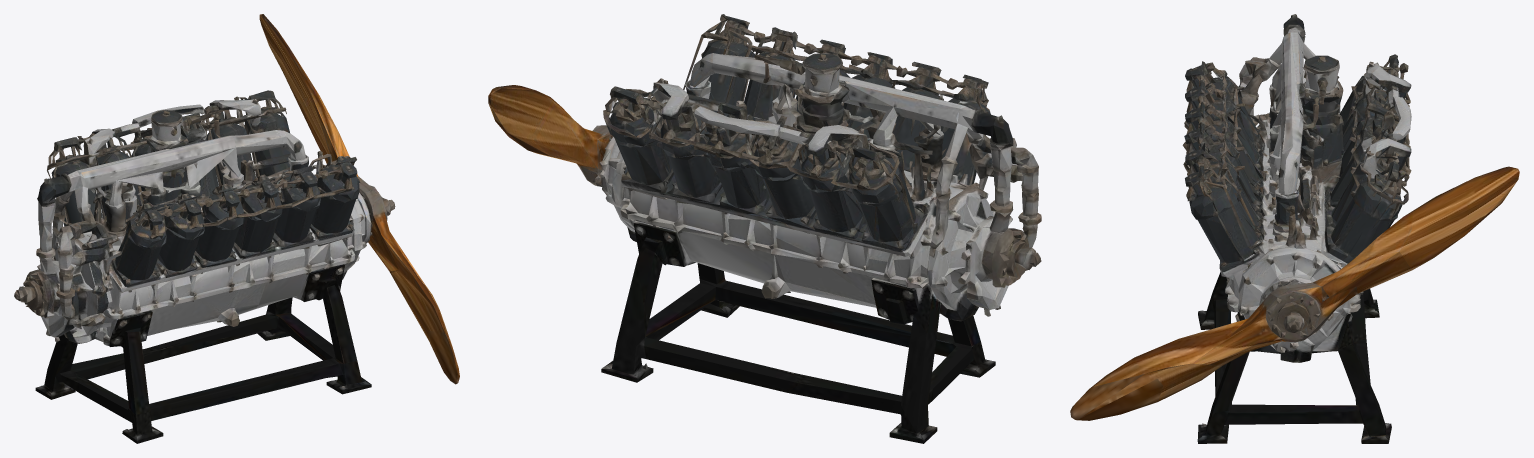
The model's file is engine.glb.
3 renders of one model, left to right at view 1: azimuth 30°, elevation 25°; view 2: azimuth 150°, elevation 25°; view 3: azimuth 270°, elevation 25°, orthographic. The views are drawn at different scales.
Parts seen in each view (by area): view 1: Mesh_0; view 2: Mesh_0; view 3: Mesh_0.
Boxes of the visible parts, box(x1,y1,x2,y2) form: Mesh_0: box(14, 14, 459, 443); Mesh_0: box(488, 14, 1041, 443); Mesh_0: box(1070, 14, 1519, 443).
Bounding box in the file's own units: 1.9 × 1.31 × 1.75.
Materials: 1 (1 with a texture image).
